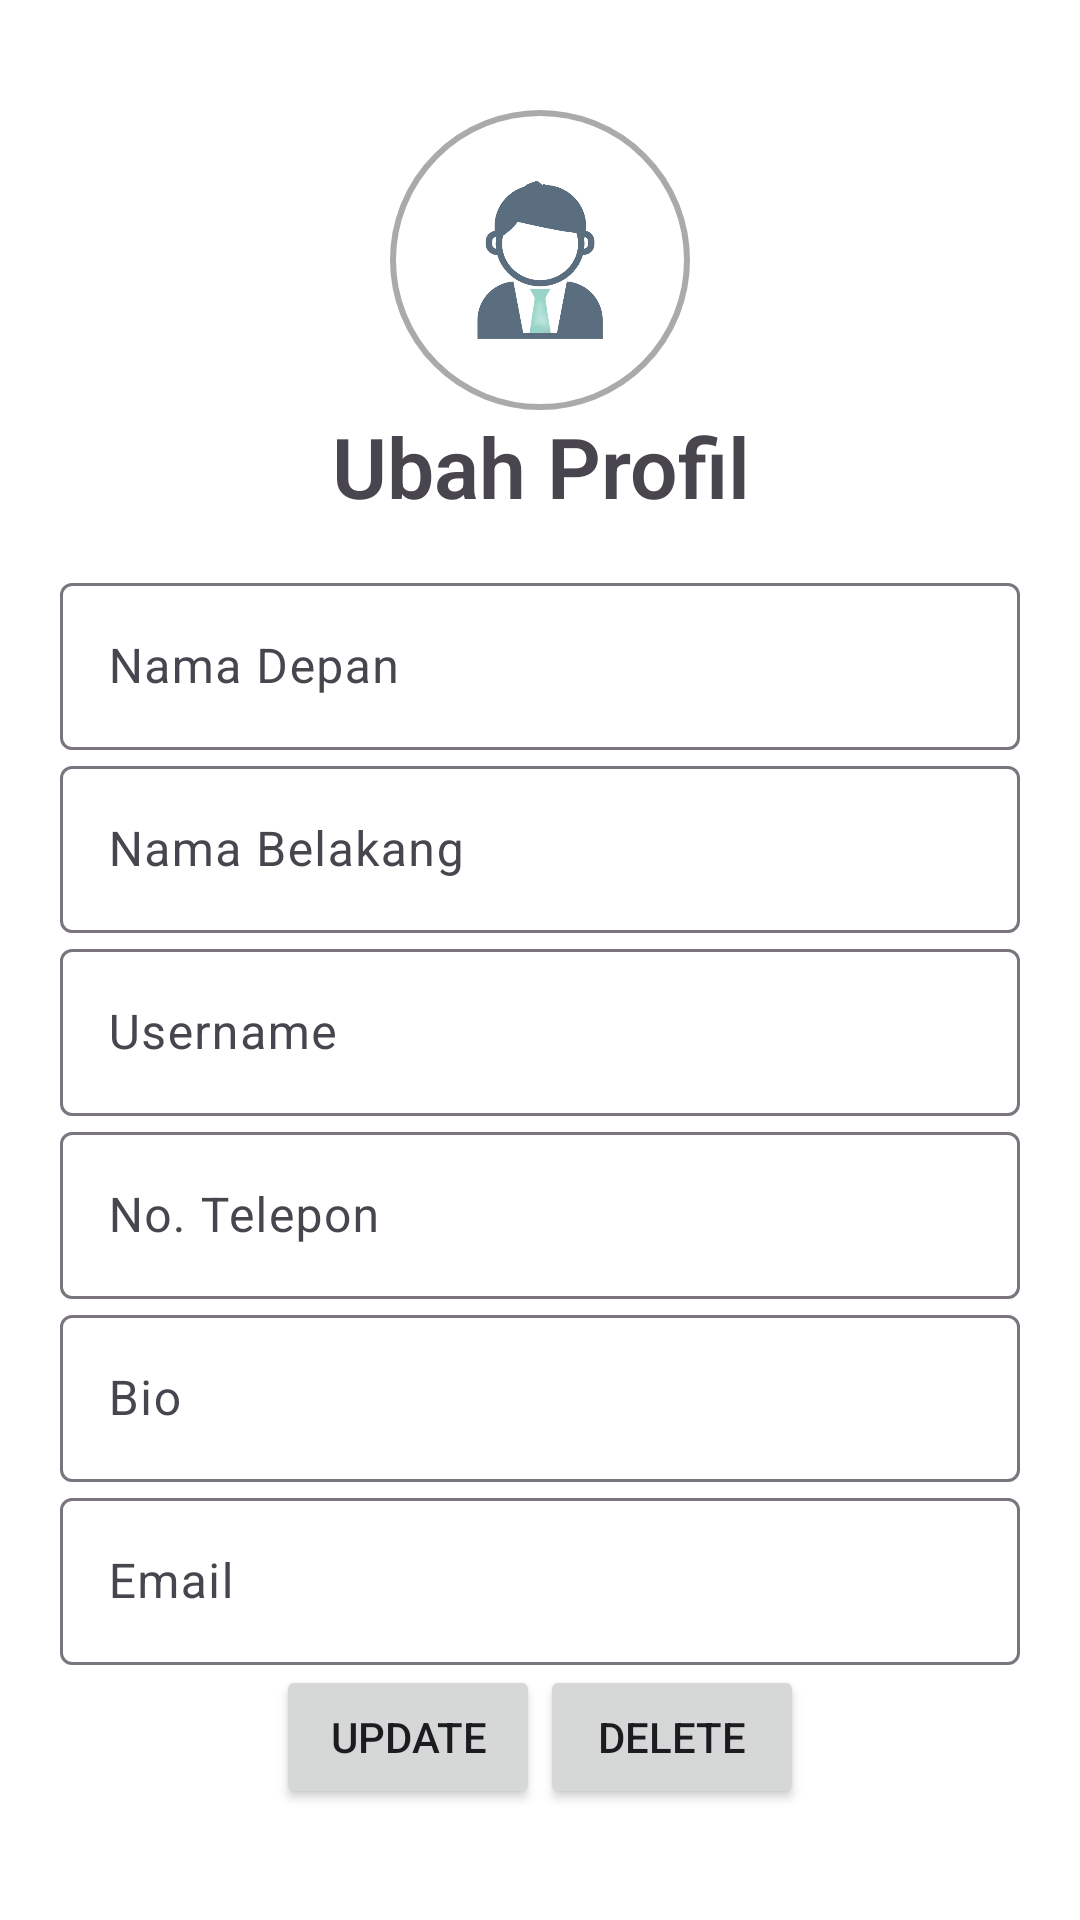

Locate icon controls on the screen. Image size 1080x1920, boxes as region(x1, y1, x2, y2).
illustration: region(390, 110, 690, 410)
